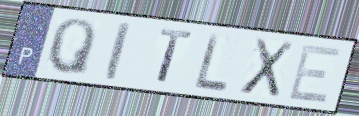E: (285, 43, 345, 106)
I: (104, 19, 133, 83)
L: (193, 30, 230, 93)
Q: (44, 16, 98, 79)
T: (155, 26, 195, 87)
X: (236, 36, 298, 101)
